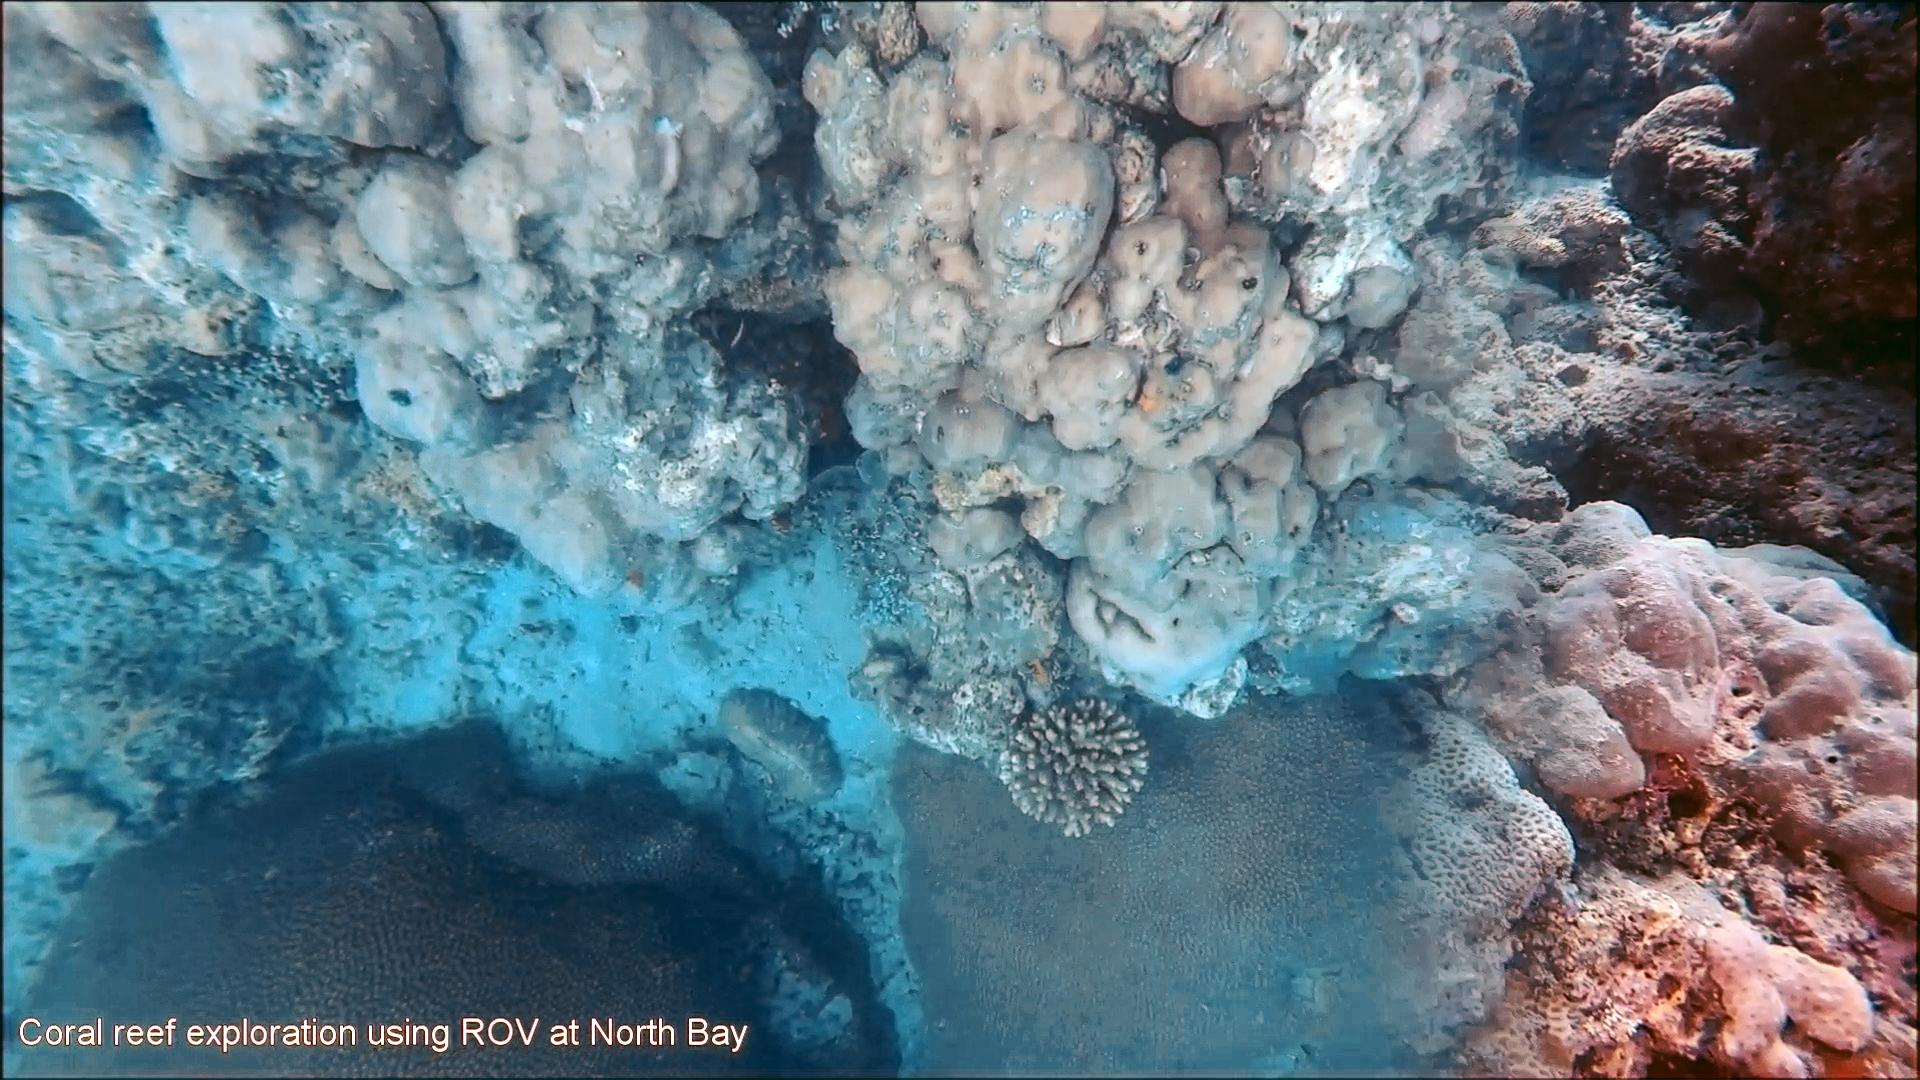Goniastrea-Goniastrea pectinata: (1393, 700, 1584, 945)
Porites-Porites pukoensis: (1615, 492, 1920, 928)
